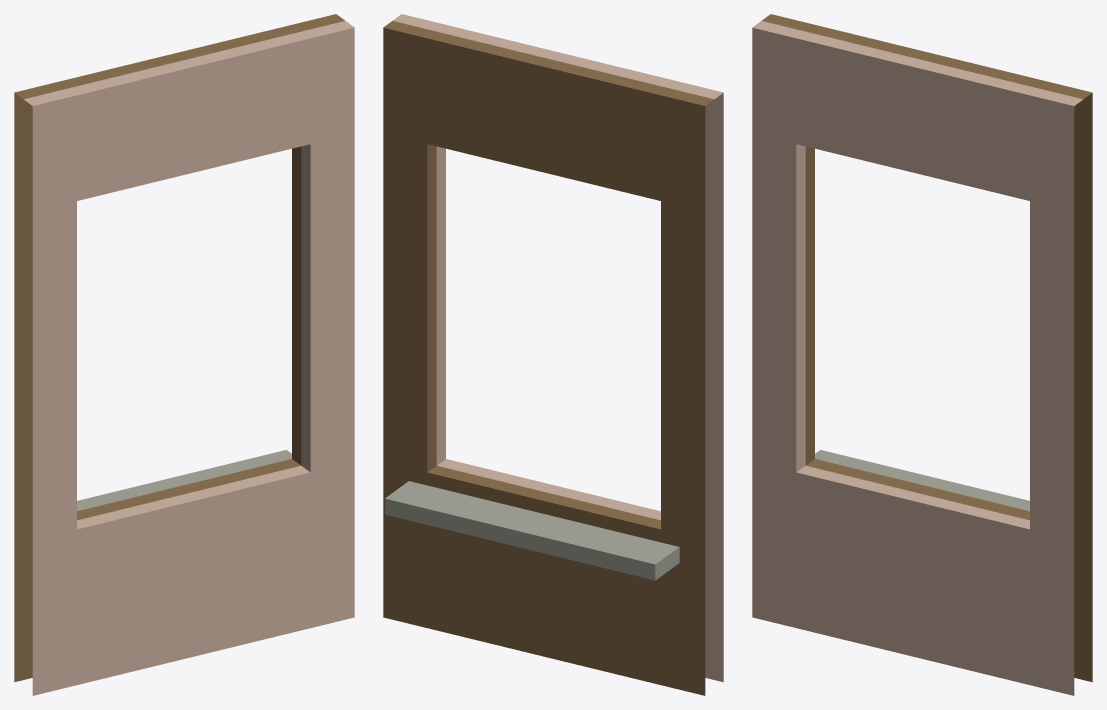
The model's file is WallWindowx2.fbx.
3 views of the same model, side by side, from view 1: azimuth 30°, elevation 25°; view 2: azimuth 150°, elevation 25°; view 3: azimuth 330°, elevation 25° (orthographic).
Visible parts, largest first — view 1: WallSegmentWindow; view 2: WallSegmentWindow; view 3: WallSegmentWindow.
Boxes of the visible parts, x1,y1,x2,y2 form: WallSegmentWindow: (14,14,354,695); WallSegmentWindow: (383,14,723,695); WallSegmentWindow: (752,14,1092,695).
Size of the model in its own units: 200 by 350 by 45.82.
